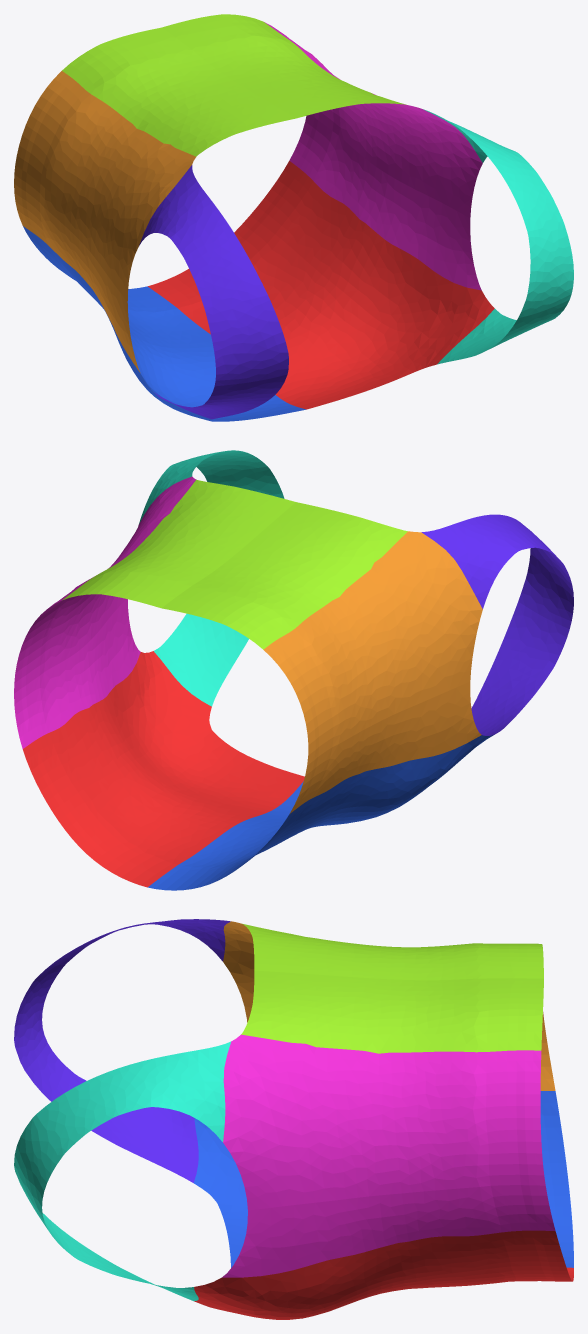
The model's file is lulu_fab_garmentB.obj.
3 renders of one model, top to bottom at view 1: azimuth 30°, elevation 25°; view 2: azimuth 150°, elevation 25°; view 3: azimuth 270°, elevation 25°, orthographic. The views are drawn at different scales.
Parts seen in each view (by area): view 1: lulu_fab_garmentB; view 2: lulu_fab_garmentB; view 3: lulu_fab_garmentB.
Boxes of the visible parts, bbox=[...] form: lulu_fab_garmentB: bbox=[14, 14, 573, 421]; lulu_fab_garmentB: bbox=[14, 450, 573, 890]; lulu_fab_garmentB: bbox=[14, 919, 573, 1319].
Bounding box in the file's own units: 667 × 517 × 836.
